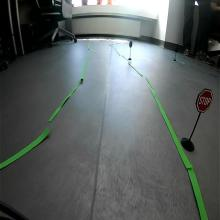stop: (196, 88, 213, 112)
